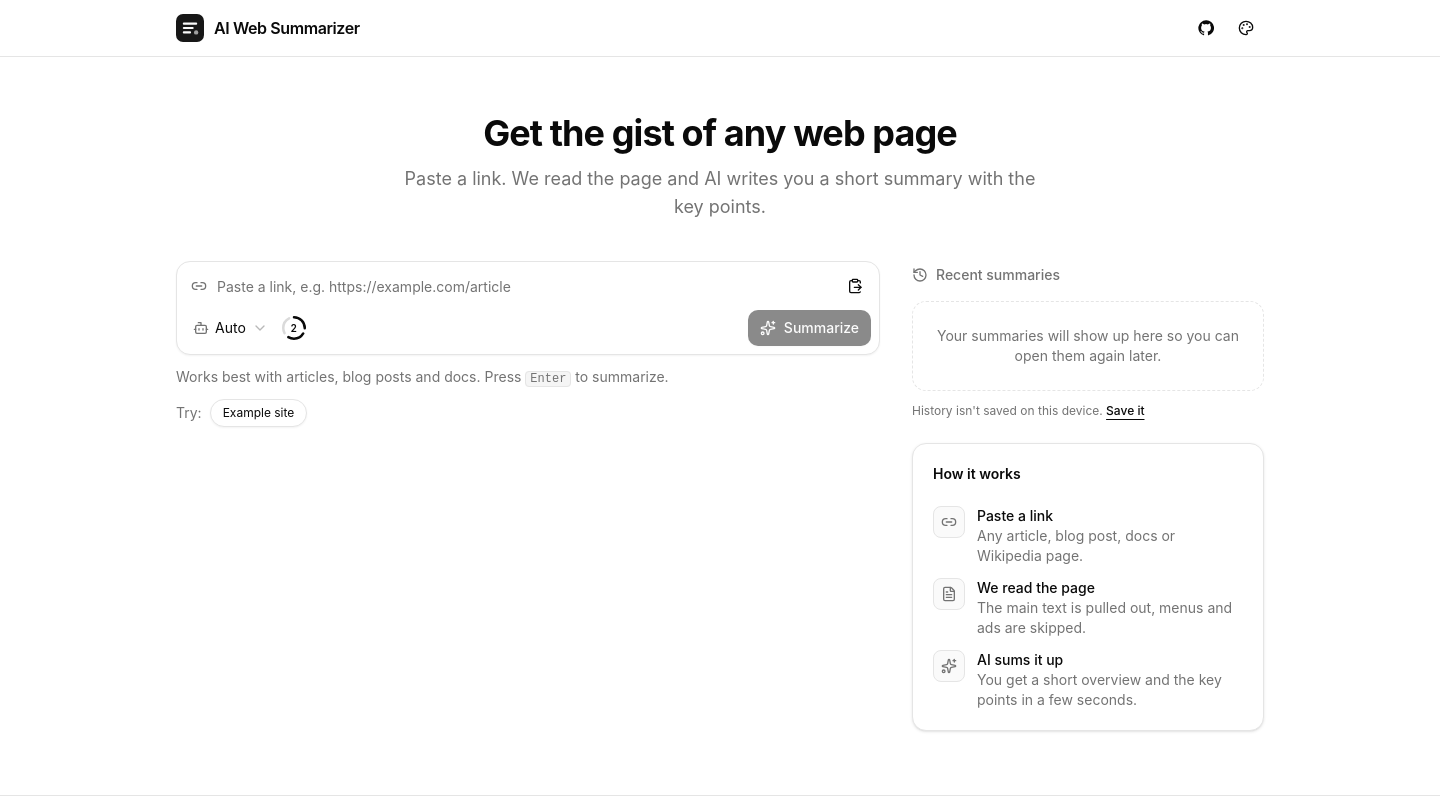
Test: daily usage › shows how many summaries are left and counts down
This screenshot has width=1440, height=806.
Expected: the picture named "2 of 3 summaries left" reads "2", top-left (290, 322), bottom-right (297, 334)
Step 1. Type "https://example.com/article" into the field named "Web page URL" → (528, 286), box top-left (177, 262), bottom-right (879, 310)
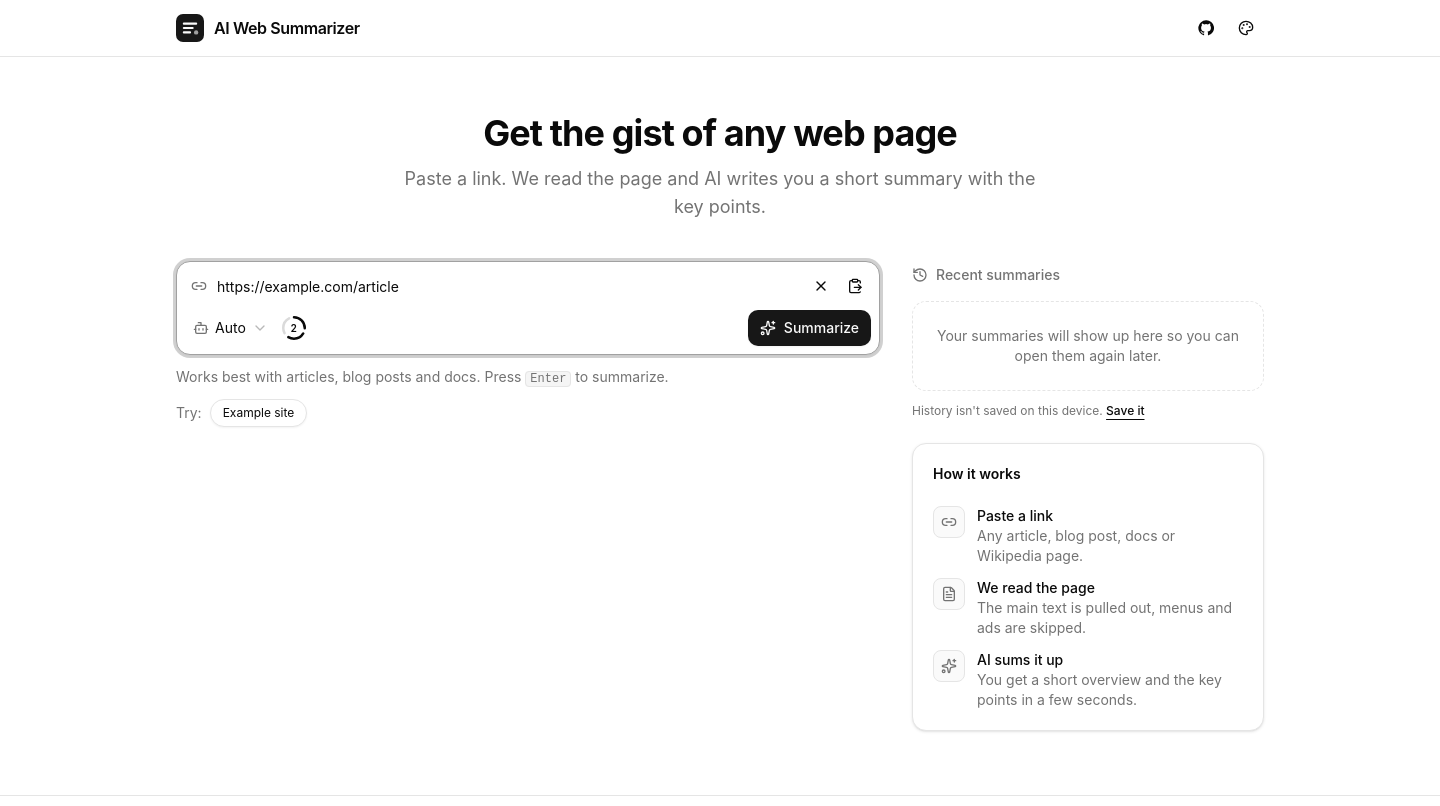
Step 2. Click the button "Summarize" → (809, 328), box top-left (748, 310), bottom-right (871, 346)
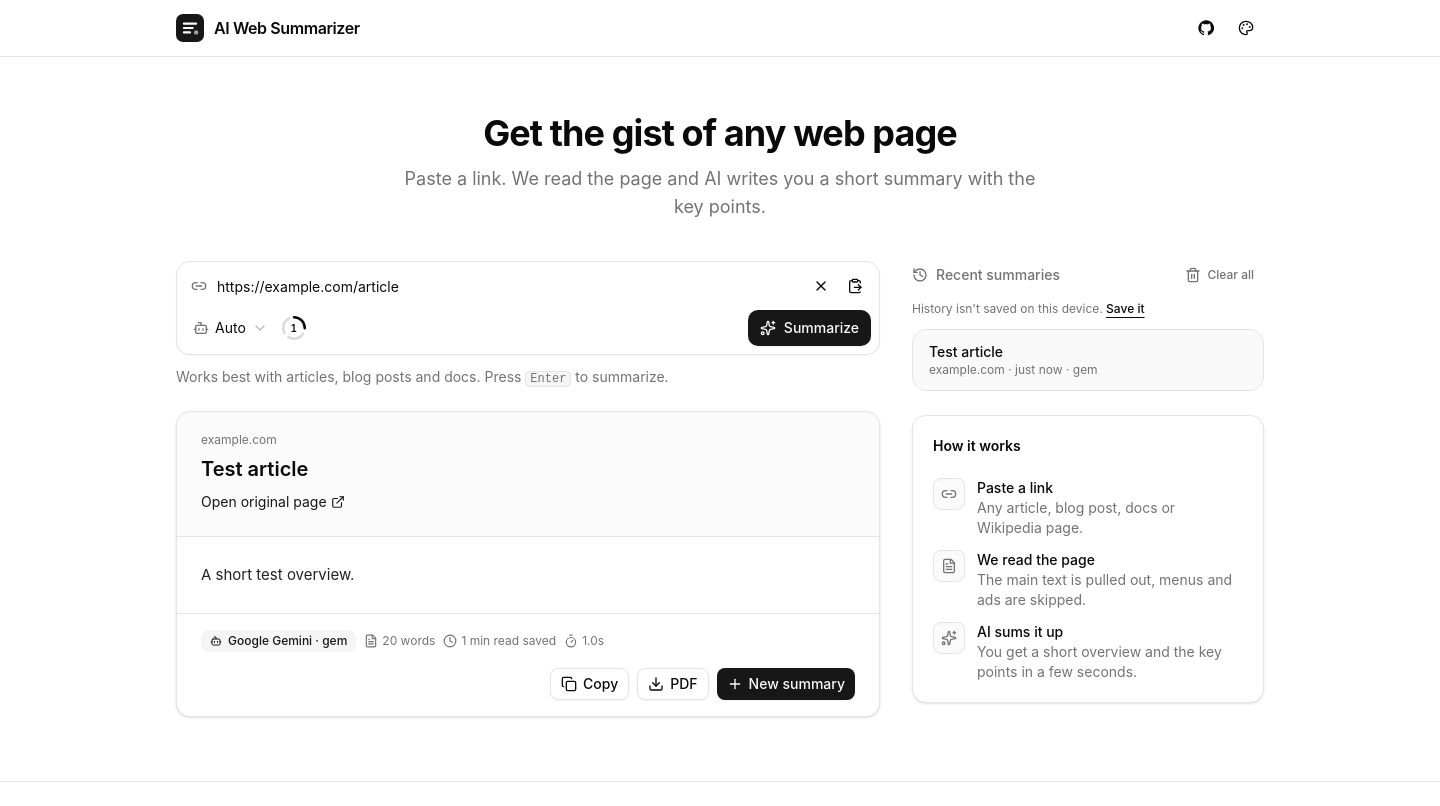
Result: the heading "Test article" is shown at top-left (201, 457), bottom-right (308, 481)
Result: the picture named "1 of 3 summaries left" reads "1" at top-left (290, 322), bottom-right (297, 334)
